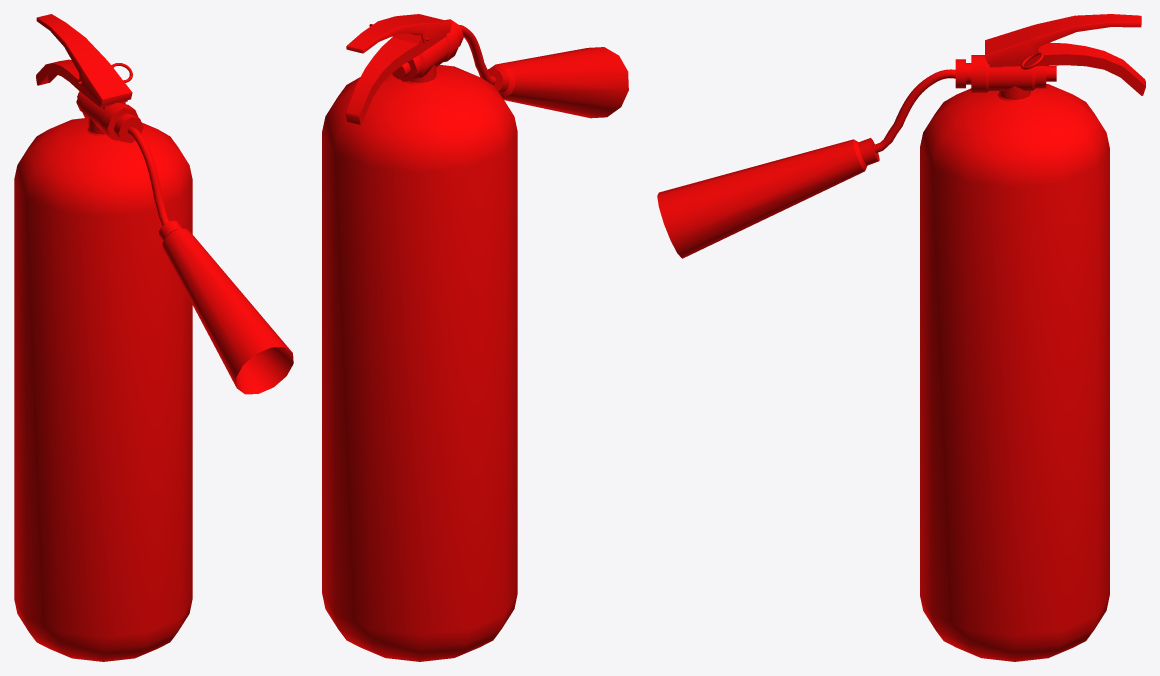
File: огнетушитель.fbx
The picture shows the model from 3 angles, left to right: view 1: azimuth 30°, elevation 25°; view 2: azimuth 150°, elevation 25°; view 3: azimuth 270°, elevation 25°; orthographic projection. The views are drawn at different scales.
Parts seen in each view (by area): view 1: tushka; view 2: tushka; view 3: tushka.
Part boxes in pixels (x1,y1,x2,y2): tushka: [14, 14, 293, 661]; tushka: [322, 14, 628, 661]; tushka: [657, 14, 1145, 661].
Bounding box in the file's own units: 44.06 × 160 × 113.
